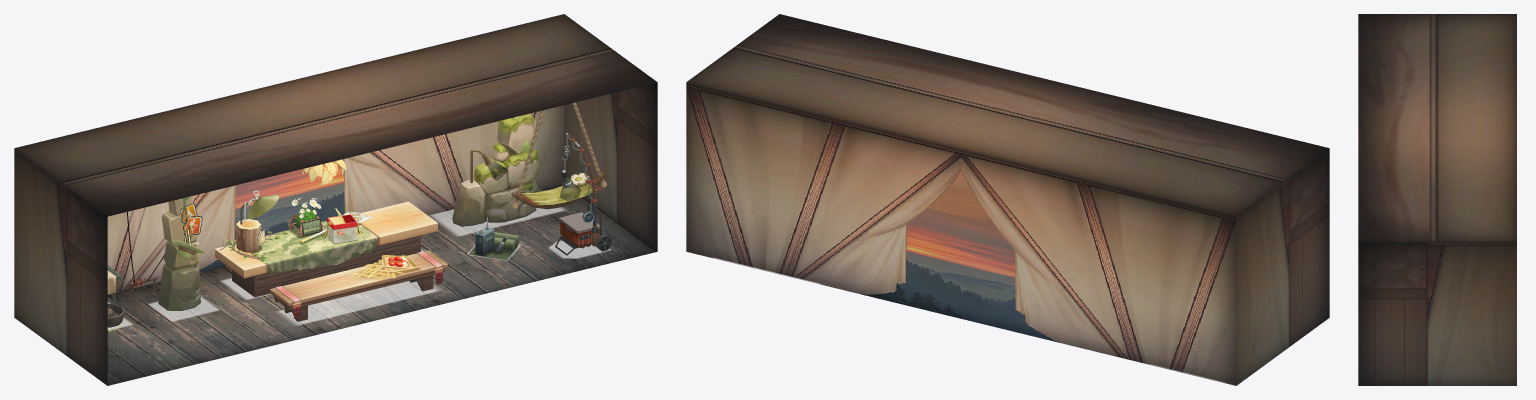
The model's file is camp.glb.
3 views of the same model, side by side, from view 1: azimuth 30°, elevation 25°; view 2: azimuth 150°, elevation 25°; view 3: azimuth 270°, elevation 25° (orthographic). The views are drawn at different scales.
Parts seen in each view (by area): view 1: ROOM_room, ROOM_floor, furni_camp_table_01, furni_camp_stone_01, furni_camp_table_02, furni_camp_longBench_01, furni_camp_column_01, furni_camp_curtain_02, furni_camp_fishingRodKit_01, shadow_01.005, ROOM_LDoor, ROOM_RDoor (+8 smaller); view 2: ROOM_room, ROOM_LDoor; view 3: ROOM_room, ROOM_RDoor.
Part boxes in pixels (left/top/right/bottom): ROOM_room: left=14, top=14, right=657, bottom=385; ROOM_floor: left=107, top=184, right=657, bottom=385; furni_camp_table_01: left=215, top=190, right=437, bottom=297; furni_camp_stone_01: left=452, top=113, right=538, bottom=226; furni_camp_table_02: left=224, top=197, right=377, bottom=273; furni_camp_longBench_01: left=270, top=250, right=447, bottom=321; furni_camp_column_01: left=158, top=196, right=205, bottom=310; furni_camp_curtain_02: left=127, top=202, right=169, bottom=285; furni_camp_fishingRodKit_01: left=555, top=133, right=611, bottom=255; shadow_01.005: left=277, top=281, right=440, bottom=325; ROOM_LDoor: left=74, top=285, right=93, bottom=375; ROOM_RDoor: left=625, top=151, right=643, bottom=241; ROOM_room: left=686, top=14, right=1329, bottom=385; ROOM_LDoor: left=1297, top=251, right=1315, bottom=341; ROOM_room: left=1358, top=14, right=1516, bottom=385; ROOM_RDoor: left=1381, top=320, right=1414, bottom=385.
Size of the model in its own units: 7.48 by 2.2 by 2.27.
8 materials, 8 textured.
